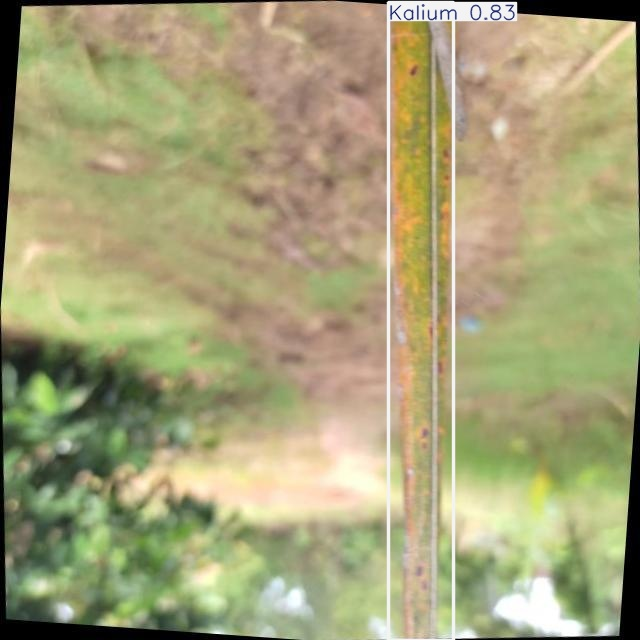Kalium: (388, 2, 453, 640)
